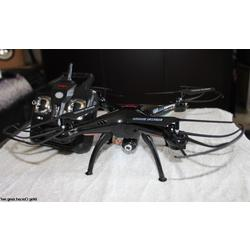drone: (7, 90, 247, 184)
